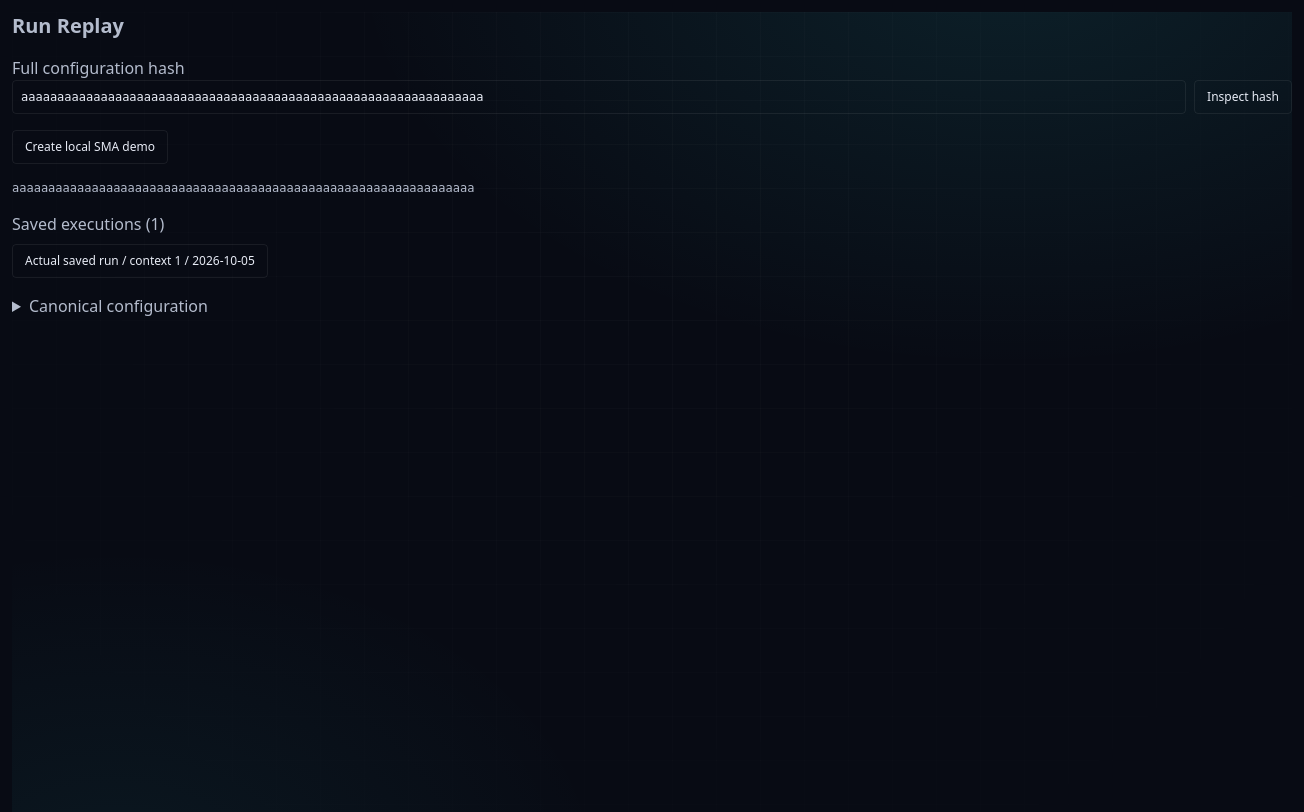
Test: shows changed provenance and disables restoration
Click the button "Actual saved run / context 1 / 2026-10-05" at (140, 261), box [12,244,268,278]
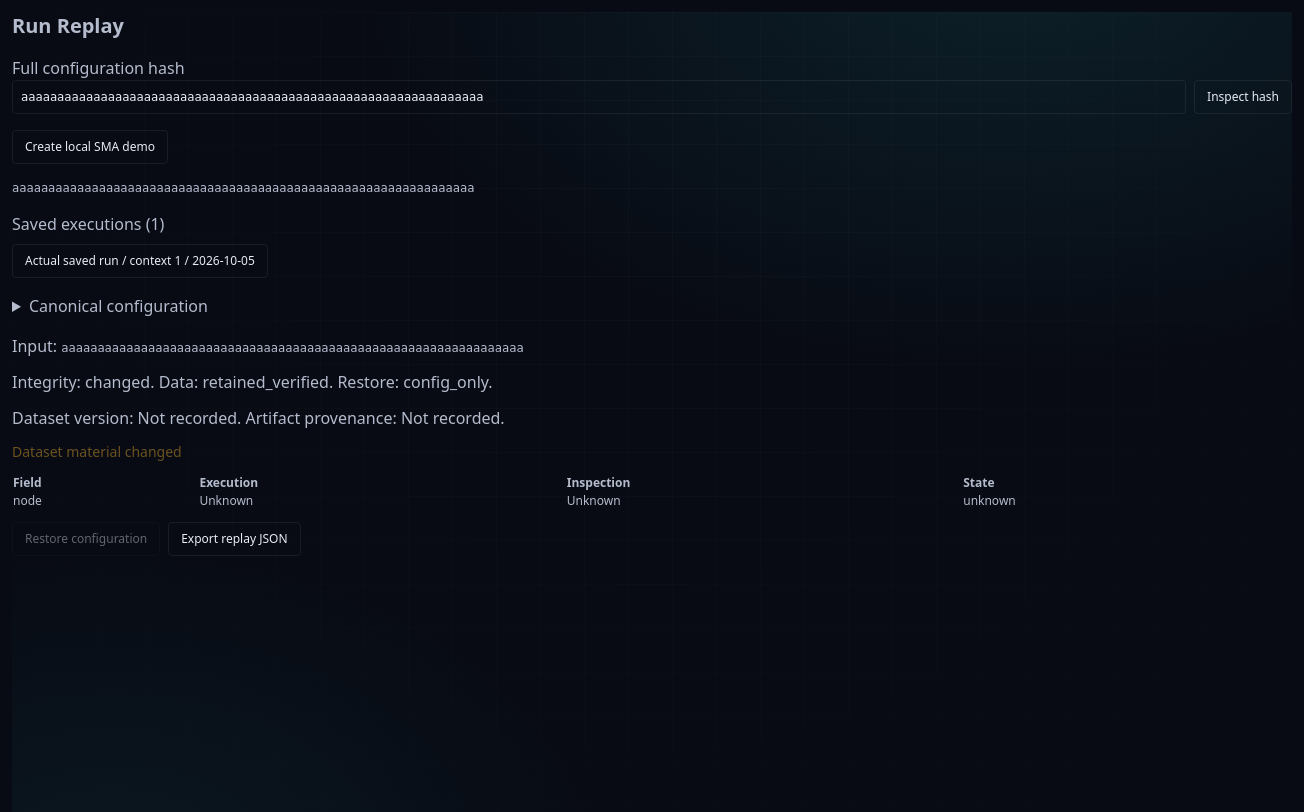
Check: the list item "Dataset material changed" is shown, box [12,442,182,461]
Check: the button "Restore configuration" is disabled, box [12,522,160,556]
